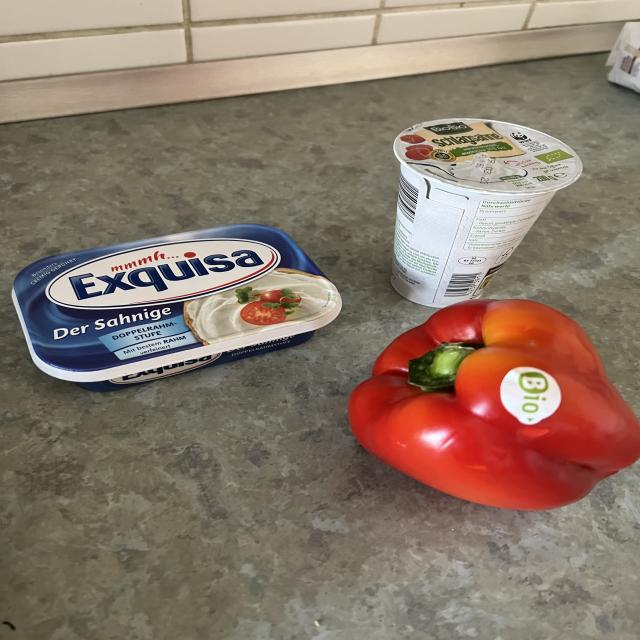bell_pepper: (352, 288, 640, 512)
